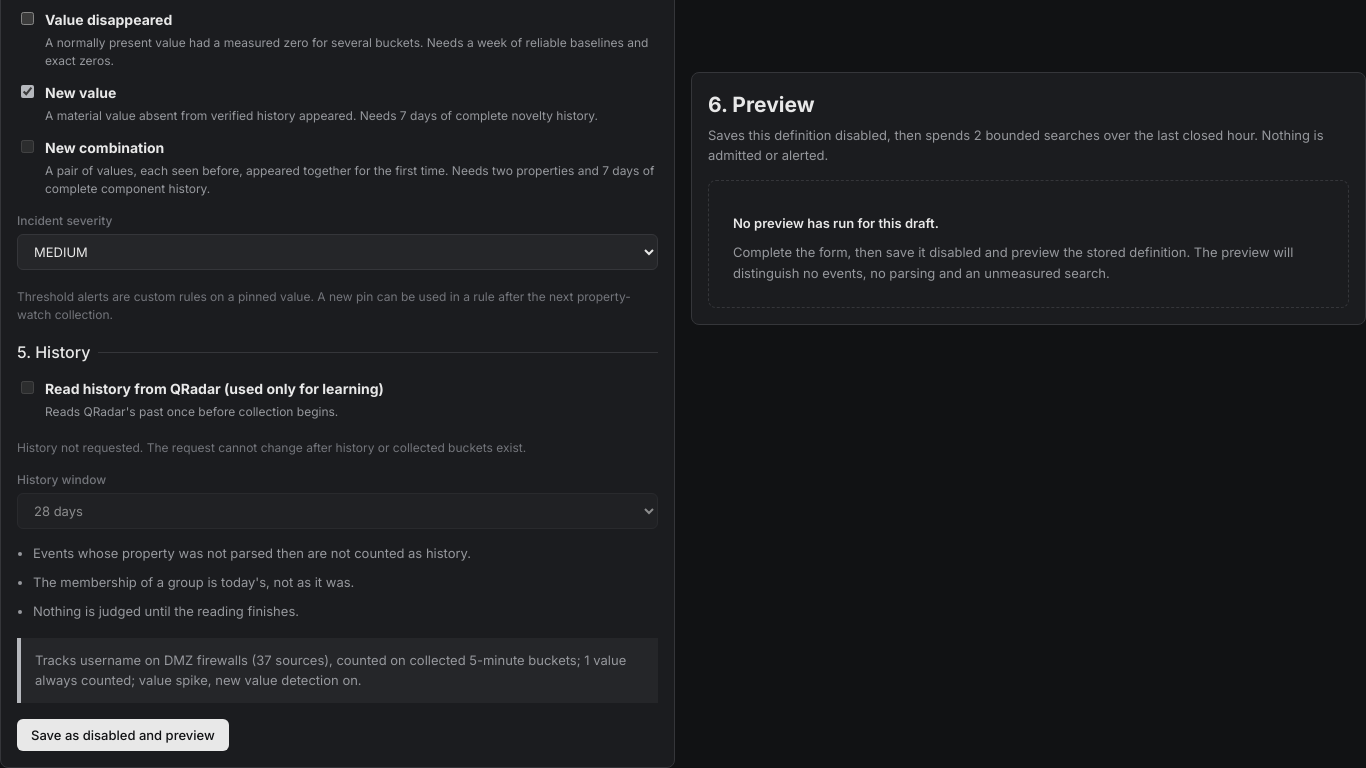
Test: property-watch save and preview › shows the preview coverage, unparsed remainder, per-type reading and lower bounds
The width and height of the screenshot is (1366, 768).
(page scrolled)
What coordinates should you click on to do the following:
click the button "Save as disabled and preview"
I would click on:
 (123, 735)
Its box is [17,719,229,751].
(page scrolled)
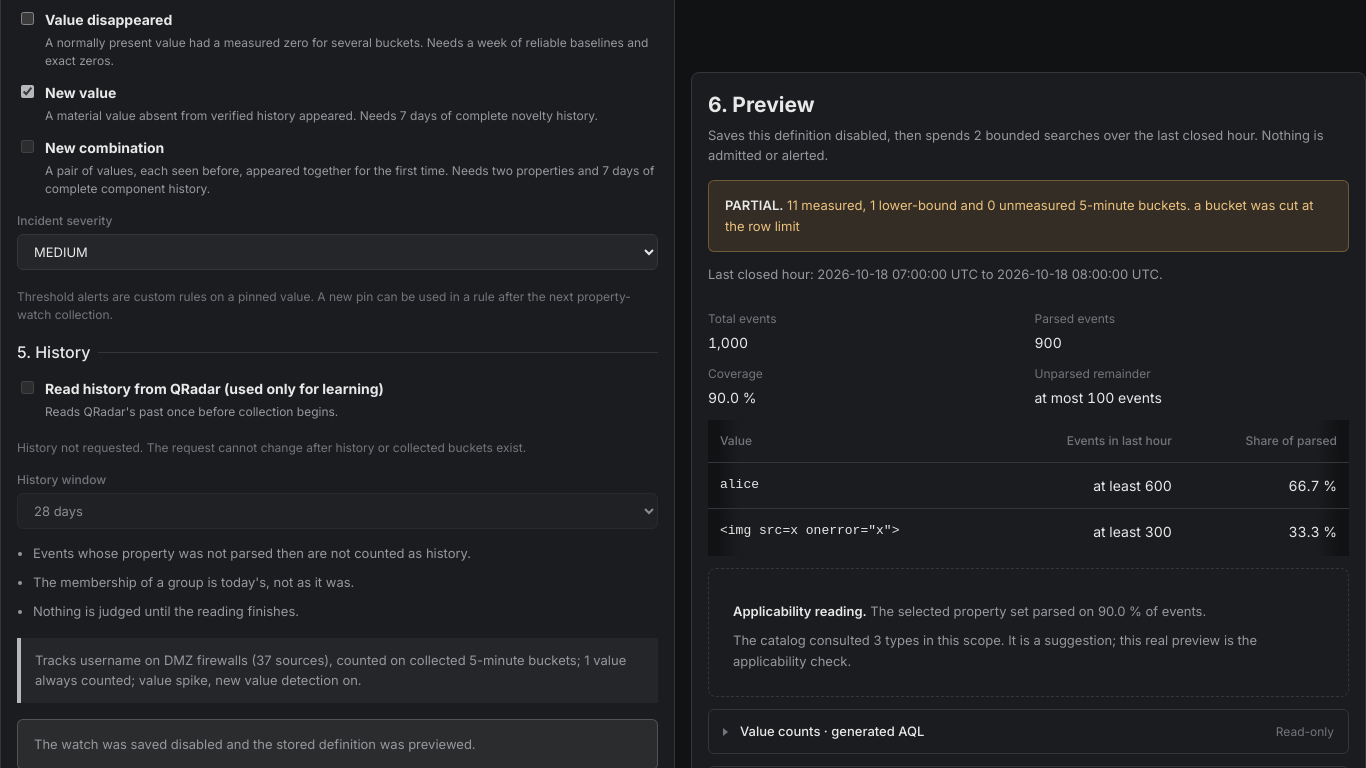
Result: the text "11 measured, 1 lower-bound" is shown at [725,197,1314,234]
Result: the text "90.0 %" is shown at [708,390,756,406]
Result: the text "66.7 %" is shown at [1184,463,1349,509]
